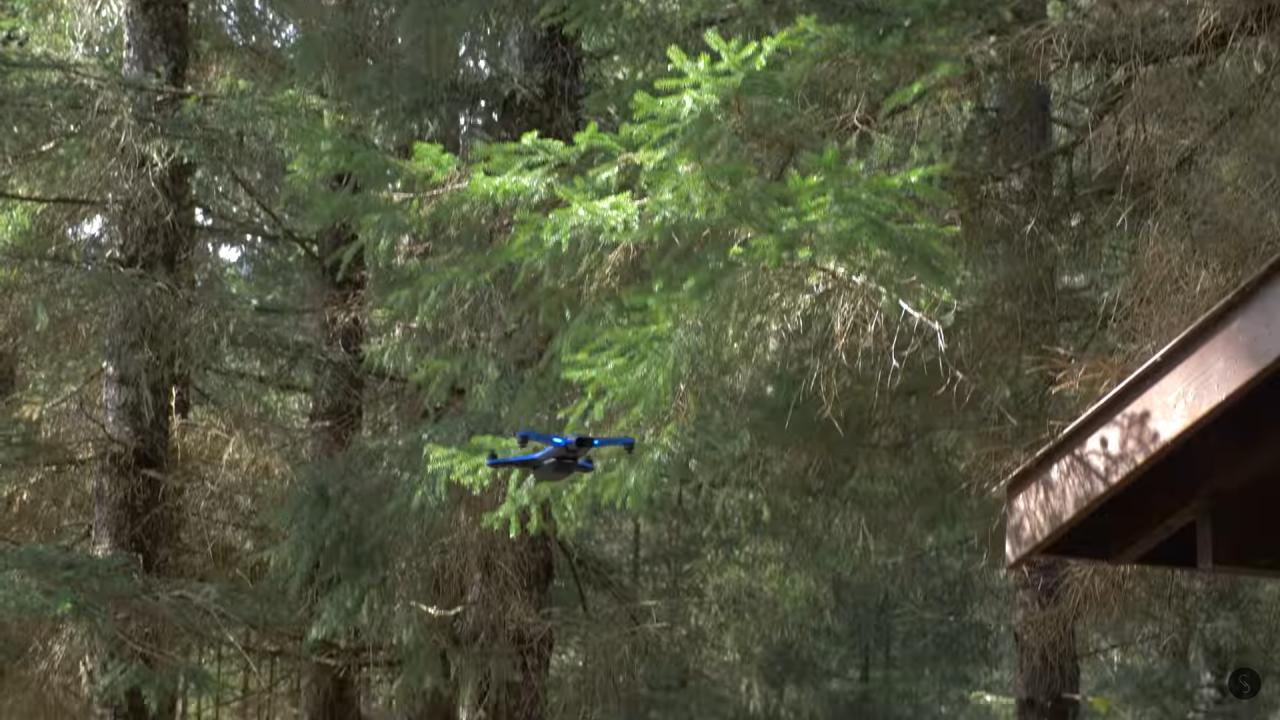Drone: (468, 408, 654, 497)
